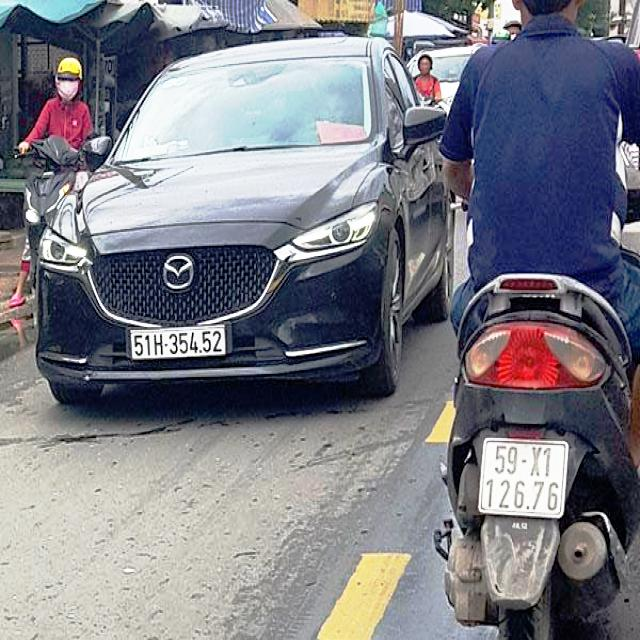license_plate: (482, 444, 568, 517), (131, 329, 227, 364)
